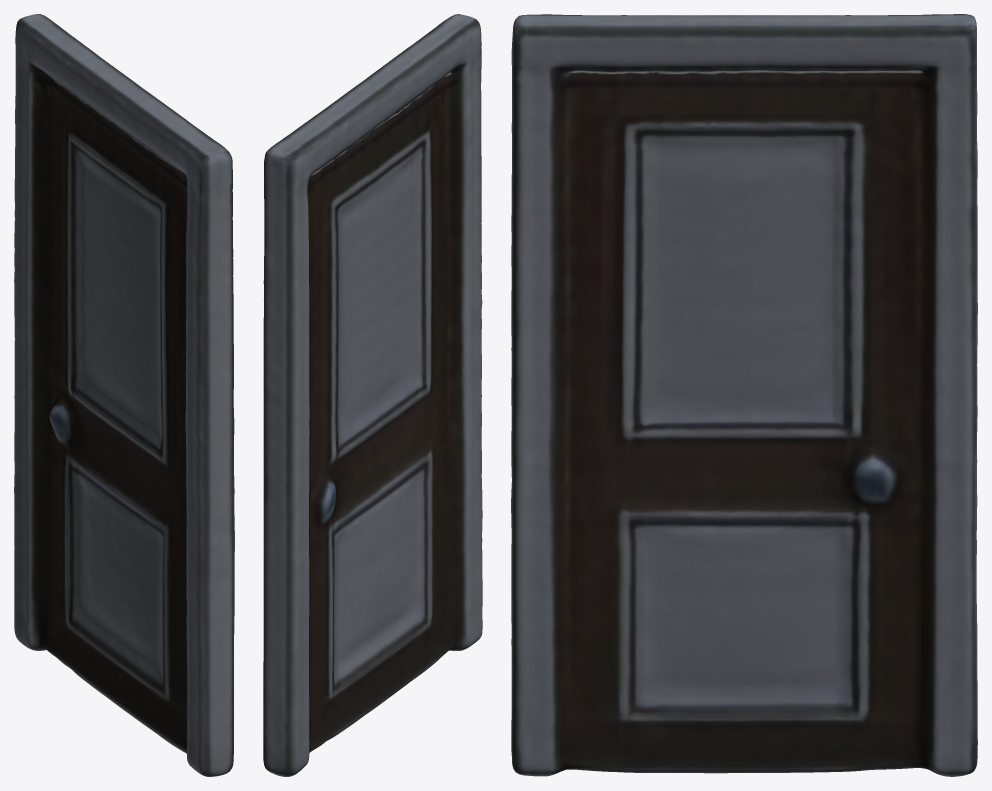
The model's file is 852516571ccf_open_door__3d_asset.fbx.
3 views of the same model, side by side, from view 1: azimuth 30°, elevation 25°; view 2: azimuth 150°, elevation 25°; view 3: azimuth 270°, elevation 25° (orthographic). The views are drawn at different scales.
Parts seen in each view (by area): view 1: high_poly; view 2: high_poly; view 3: high_poly.
Boxes of the visible parts, left/top/right/bottom form: high_poly: left=14, top=14, right=234, bottom=776; high_poly: left=263, top=14, right=482, bottom=776; high_poly: left=511, top=14, right=977, bottom=776.
Bounding box in the file's own units: 6.51 × 100 × 56.03.
